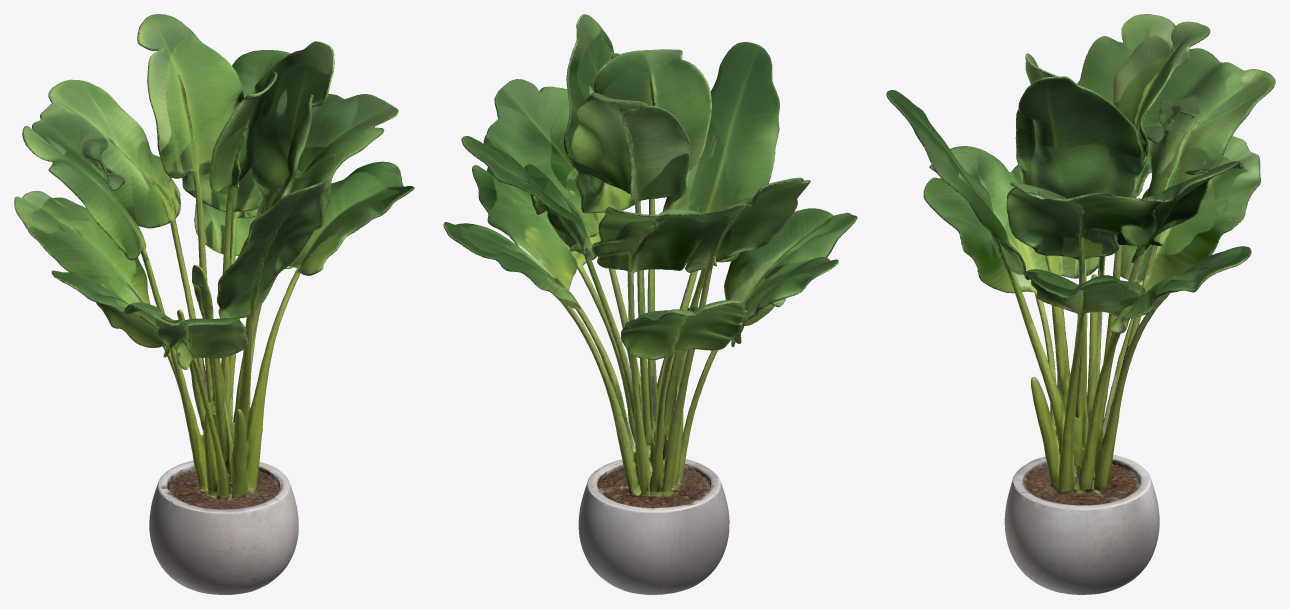
File: huaping.glb
3 renders of one model, left to right at view 1: azimuth 30°, elevation 25°; view 2: azimuth 150°, elevation 25°; view 3: azimuth 270°, elevation 25°, orthographic. The views are drawn at different scales.
Parts seen in each view (by area): view 1: geometry_0; view 2: geometry_0; view 3: geometry_0.
Boxes of the visible parts, x1,y1,x2,y2 form: geometry_0: (14, 14, 414, 594); geometry_0: (443, 14, 857, 594); geometry_0: (886, 14, 1275, 594).
Bounding box in the file's own units: 0.6286 × 0.9 × 0.5848.
1 material, 1 textured.
